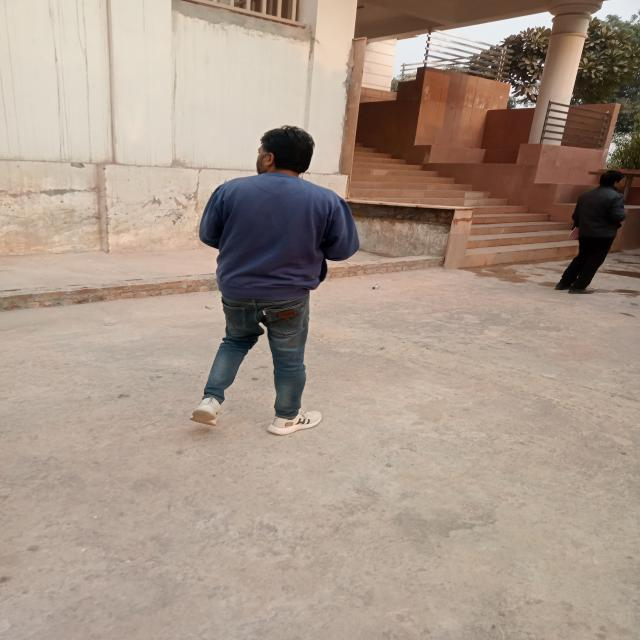unsafe: (181, 124, 355, 433), (548, 168, 628, 295)
